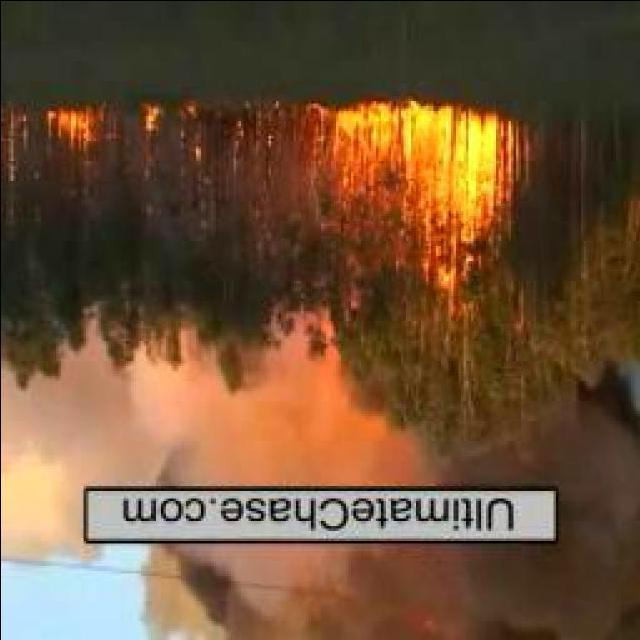Fire: (319, 103, 520, 275), (136, 106, 203, 149), (42, 103, 94, 148)
